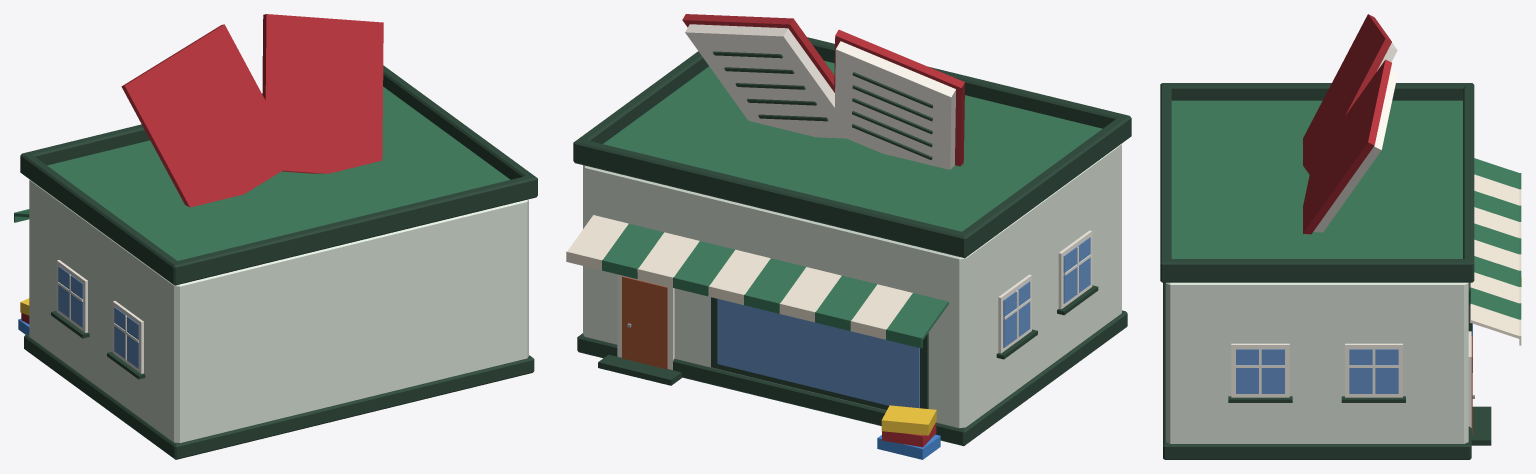
File: bld_bookshop.glb
3 renders of one model, left to right at view 1: azimuth 30°, elevation 25°; view 2: azimuth 150°, elevation 25°; view 3: azimuth 270°, elevation 25°, orthographic. The views are drawn at different scales.
Parts seen in each view (by area): view 1: bld_bookshop; view 2: bld_bookshop; view 3: bld_bookshop.
Part boxes in pixels (x1,y1,x2,y2): bld_bookshop: (14, 14, 537, 459); bld_bookshop: (566, 14, 1131, 459); bld_bookshop: (1160, 14, 1521, 459).
Size of the model in its own units: 11.42 by 9.48 by 9.56.
